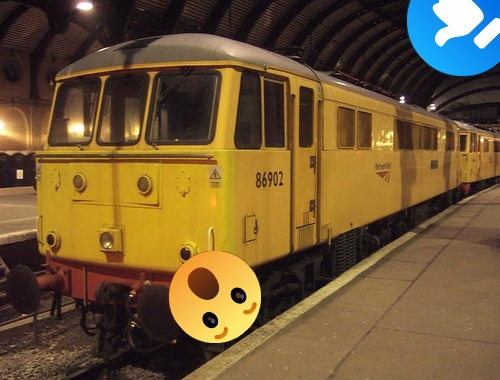like: (407, 0, 500, 76)
wow: (169, 251, 261, 343)
